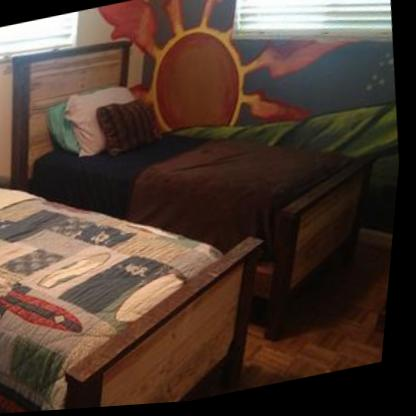Bed: (0, 0, 416, 400)
